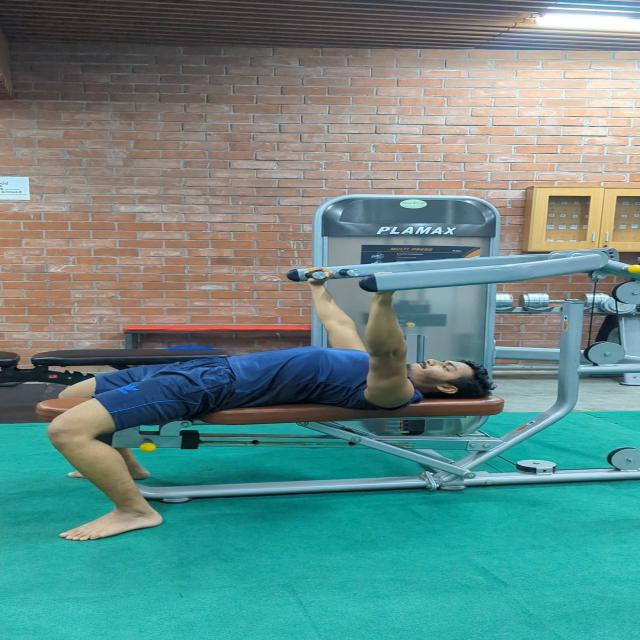Normal_BrenchPress: (28, 256, 528, 548)
